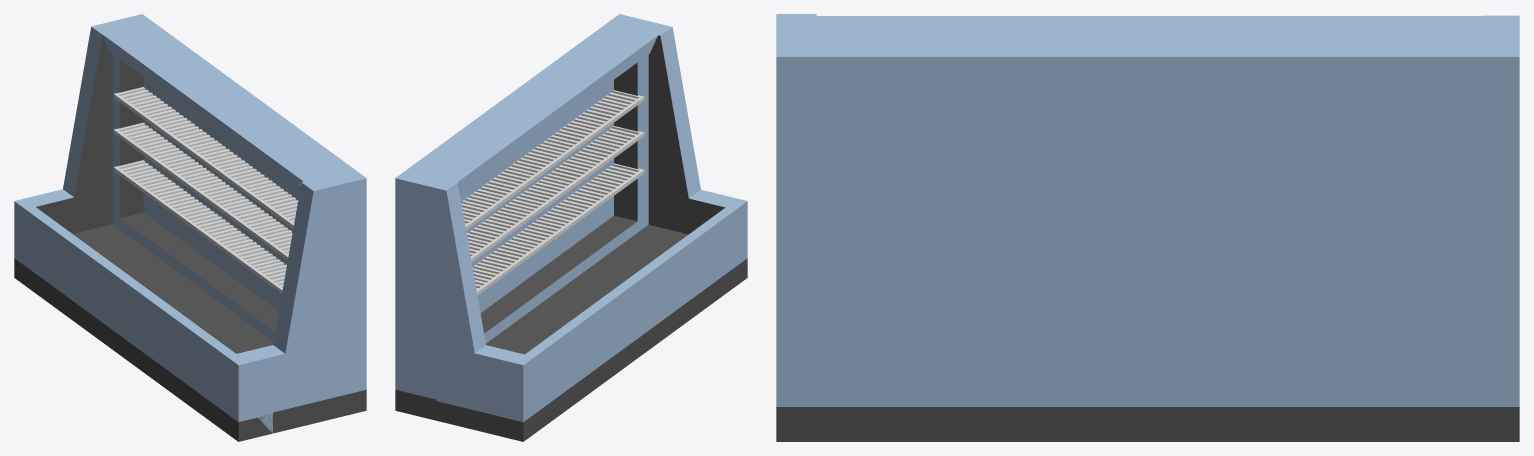
The model's file is fridgemarket.fbx.
3 views of the same model, side by side, from view 1: azimuth 30°, elevation 25°; view 2: azimuth 150°, elevation 25°; view 3: azimuth 270°, elevation 25° (orthographic). The views are drawn at different scales.
Parts seen in each view (by area): view 1: Cube, Cube.002, Cube.044, Cube.001; view 2: Cube, Cube.002, Cube.044, Cube.001; view 3: Cube.
Part boxes in pixels (x1,y1,x2,y2): Cube: [14, 14, 366, 441]; Cube.002: [113, 87, 298, 228]; Cube.044: [113, 122, 292, 260]; Cube.001: [113, 160, 286, 293]; Cube: [395, 14, 747, 441]; Cube.002: [461, 90, 644, 230]; Cube.044: [467, 126, 644, 262]; Cube.001: [472, 163, 644, 295]; Cube: [776, 14, 1519, 441].
Bounding box in the file's own units: 227 × 394 × 688.
